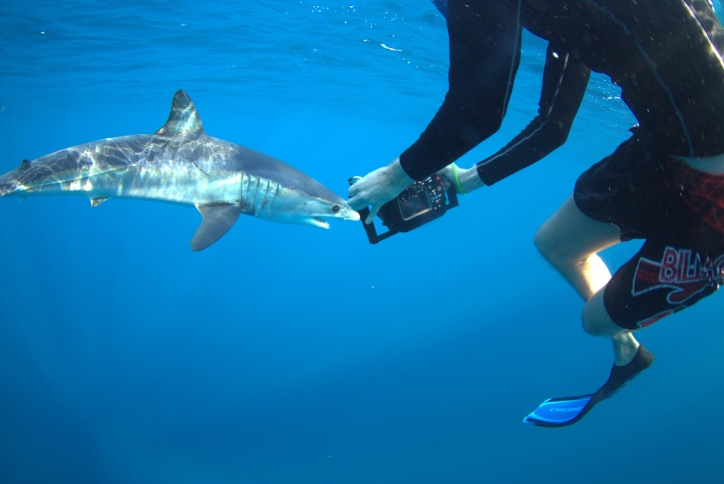Mako: (5, 88, 360, 266)
